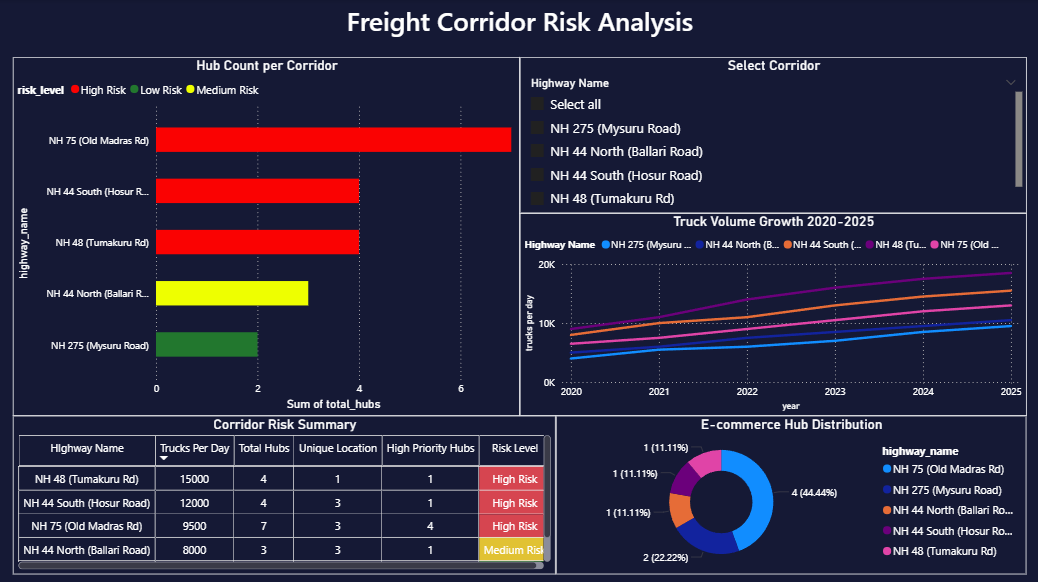

This screenshot's page, from the dashboard's own definition file:
{"tool":"powerbi","page":{"name":"Page 3","canvas":[1280,720],"ordinal":2},"visuals":[{"type":"textbox","box":[397,0,485.9,71.5],"z":0},{"type":"barChart","title":"Hub Count per Corridor","fields":{"Category":["vw_corridor_risk.highway_name"],"Y":["Sum(vw_corridor_risk.total_hubs)"],"Series":["vw_corridor_risk.risk_level"]},"box":[15.9,71.5,624.1,441.5],"z":1000},{"type":"lineChart","title":"Truck Volume Growth 2020-2025","fields":{"Category":["vw_logistics_time_series.year"],"Y":["Sum(vw_logistics_time_series.annual_tpd)"],"Series":["vw_logistics_time_series.highway_name"]},"box":[640,263.6,624.1,249.3],"z":2000},{"type":"tableEx","title":"Corridor Risk Summary","fields":{"Values":["vw_corridor_risk.highway_name","Sum(vw_corridor_risk.trucks_per_day)","Sum(vw_corridor_risk.total_hubs)","Sum(vw_corridor_risk.unique_locations)","Sum(vw_corridor_risk.high_priority_hubs)","vw_corridor_risk.risk_level"]},"box":[15.9,512.9,668.6,195.3],"z":3000},{"type":"donutChart","title":"E-commerce Hub Distribution","fields":{"Category":["vw_corridor_risk.highway_name"],"Y":["Sum(vw_corridor_risk.high_priority_hubs)"]},"box":[685,513,579,195],"z":4000},{"type":"slicer","title":"Select Corridor","fields":{"Values":["vw_corridor_risk.highway_name"]},"box":[640,71.5,624.1,192.2],"z":5000}]}

Visuals, with their boxes in screenshot pixels (x1, y1, x2, y2), scaled from the page's 1280x720 canvas onto the 1038x582 screenshot:
textbox: left=322, top=0, right=716, bottom=58
"Hub Count per Corridor" barChart: left=13, top=58, right=519, bottom=415
"Truck Volume Growth 2020-2025" lineChart: left=519, top=213, right=1025, bottom=415
"Corridor Risk Summary" tableEx: left=13, top=415, right=555, bottom=572
"E-commerce Hub Distribution" donutChart: left=555, top=415, right=1025, bottom=572
"Select Corridor" slicer: left=519, top=58, right=1025, bottom=213
